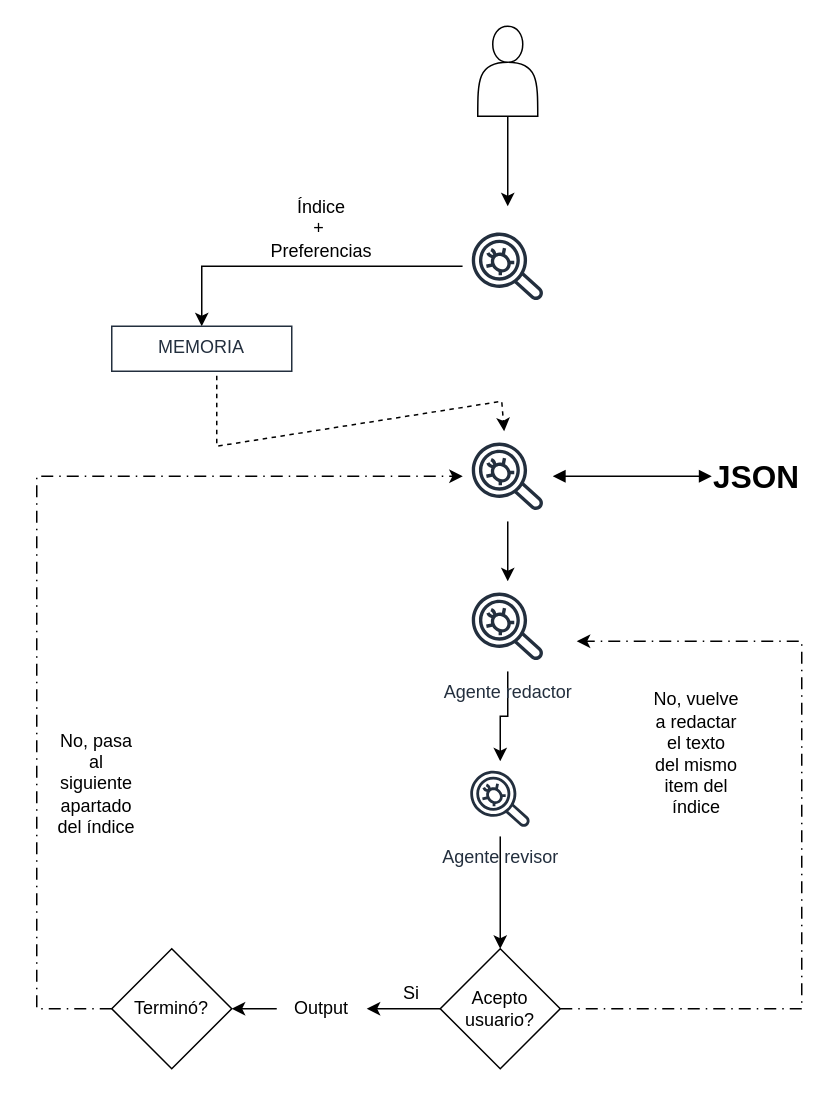
Image size: 840x1095. Some labels were removed from this diagram. Each missing label, with the centre of its shape:
"Agente analista" goes at pixel 507 265.
"Agente buscador" goes at pixel 507 475.
